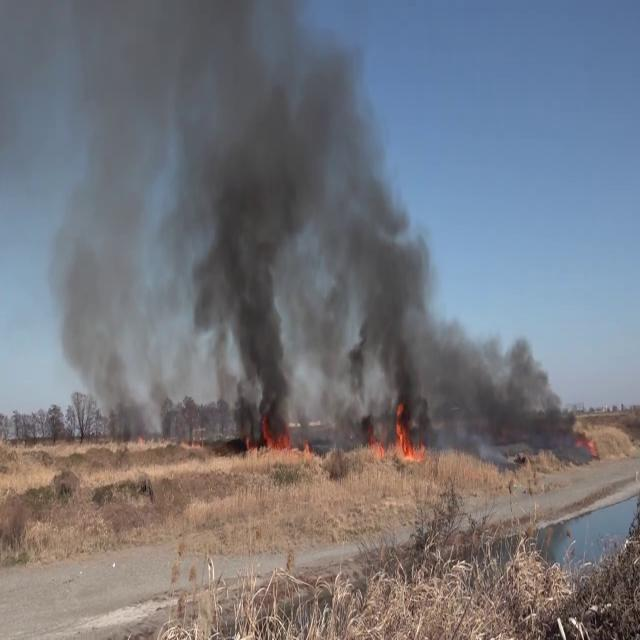Fire: (389, 400, 426, 467)
Smoke: (44, 1, 442, 432), (164, 2, 440, 434), (335, 235, 581, 449)
